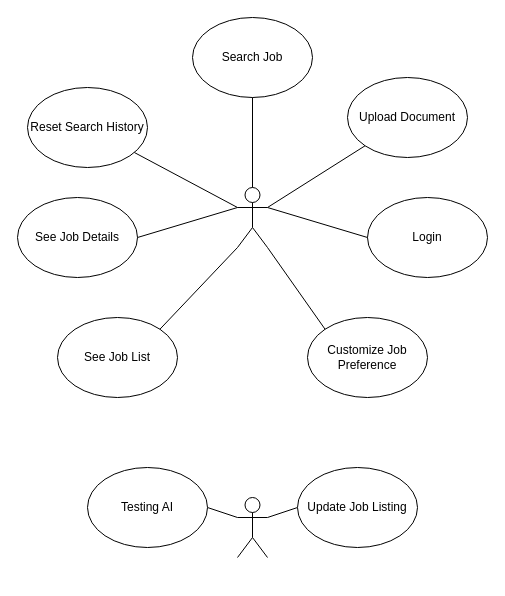
The diagram is 505 pixels wide and 596 high, and some of its shapes have lost their labels. The box of each missing label's shape, as (x1, y1, x2, y2) in pixels:
Admin: (236, 496, 268, 558)
User: (236, 186, 268, 248)
